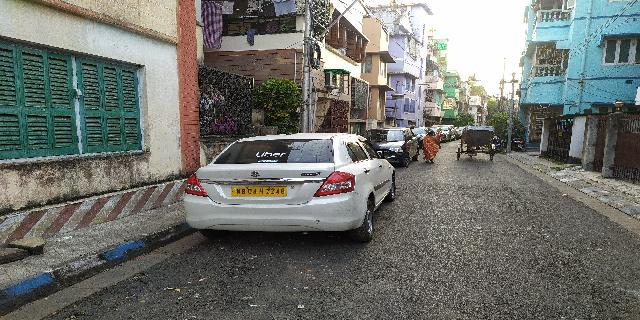Car: (184, 127, 395, 244), (375, 127, 424, 164)
